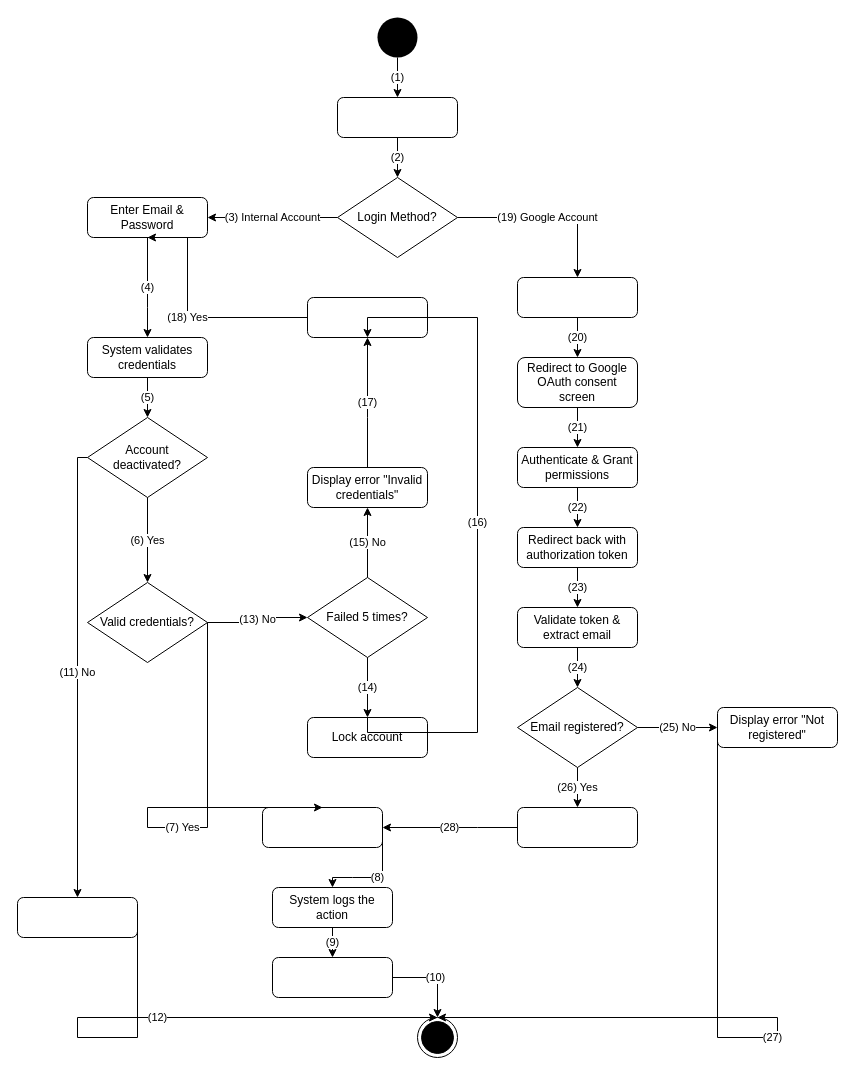
This 855x1075 diagram has some shape labels left out. The centre of each missing label's shape, as x and y in pixels:
Access Login Page: the point at 397,117
Click "Login with Google": the point at 577,297
Display error "Account locked": the point at 77,917
Generate secure JWT payload: the point at 322,827
Match with existing account: the point at 577,827
Prompt to re-enter: the point at 367,317
Redirect to Dashboard: the point at 332,977
